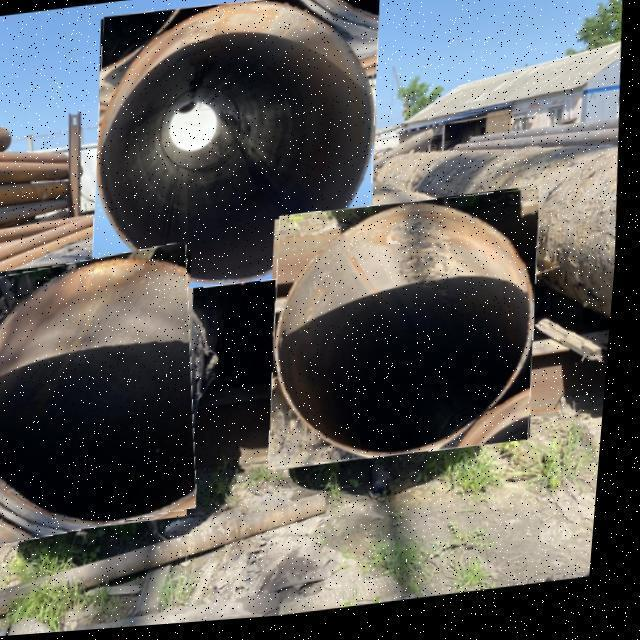pipe: (97, 0, 380, 300), (276, 197, 543, 474), (0, 245, 205, 548)
